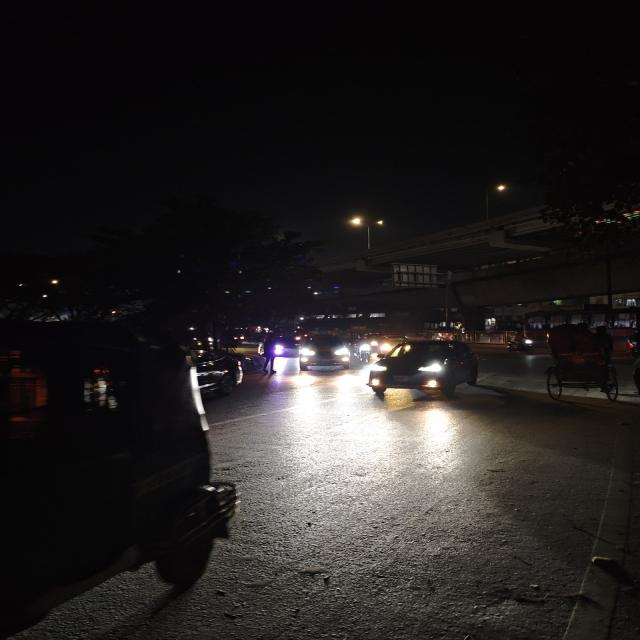car: (361, 335, 493, 405), (193, 334, 261, 405), (296, 330, 357, 374)
cng: (0, 325, 236, 638)
motorcycle: (506, 327, 538, 355)
rickshaw: (542, 322, 632, 407)
